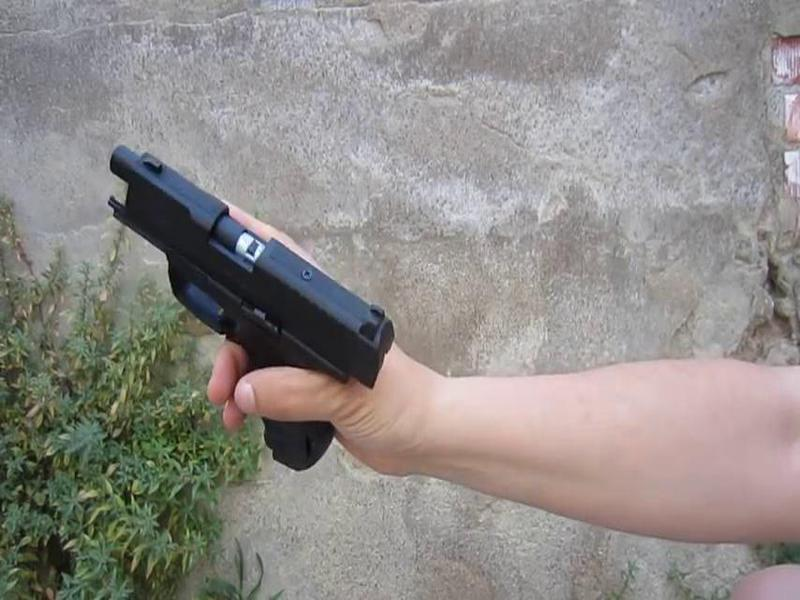Pistola: (87, 128, 388, 471)
